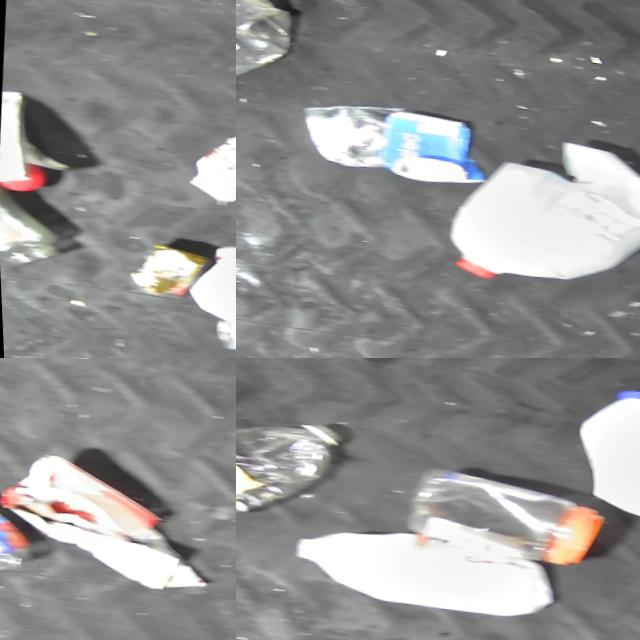can: (296, 94, 399, 170), (203, 314, 236, 358)
milk_jug: (435, 124, 640, 295), (284, 517, 561, 622), (560, 374, 640, 535), (175, 232, 236, 358)
plastic_bottle: (236, 402, 346, 530)
